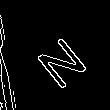N_NW: (24, 23, 86, 87)
